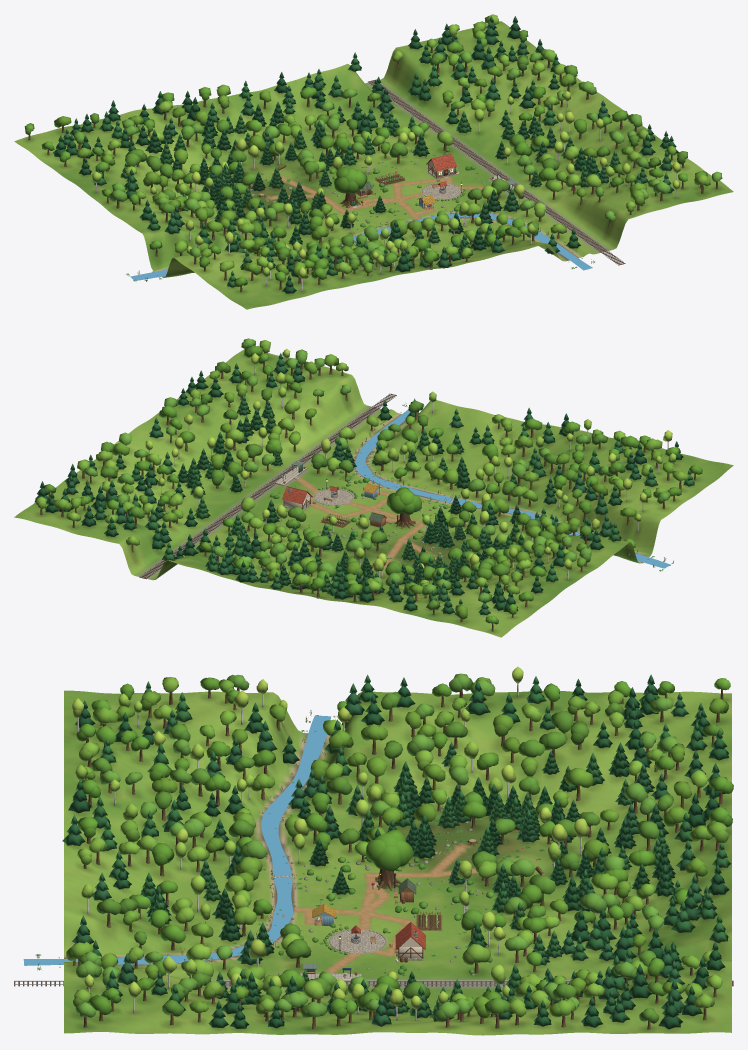
Rendered from village.glb.
3 views of the same model, one above another, from view 1: azimuth 30°, elevation 25°; view 2: azimuth 150°, elevation 25°; view 3: azimuth 270°, elevation 25° (orthographic). The views are drawn at different scales.
Visible parts, largest first — view 1: Foliage, Ground, Trunks, Halt, Water, Bakery, Square; view 2: Foliage, Ground, Trunks, Halt, Water, Square, Bakery; view 3: Foliage, Ground, Trunks, Water, Halt, Square, Bakery, Decor, Stream.
Part boxes in pixels (box(x1,y1,x2,y2)): Foliage: box(24, 14, 722, 293); Ground: box(14, 21, 733, 309); Trunks: box(28, 36, 718, 293); Halt: box(368, 80, 625, 265); Water: box(130, 213, 592, 280); Bakery: box(426, 152, 459, 181); Square: box(422, 181, 462, 199); Foliage: box(34, 338, 702, 624); Ground: box(14, 349, 733, 637); Trunks: box(40, 352, 696, 631); Halt: box(139, 393, 396, 579); Water: box(355, 405, 670, 568); Square: box(313, 479, 355, 505); Bakery: box(281, 486, 315, 510); Foliage: box(62, 666, 733, 1029); Ground: box(64, 690, 731, 1035); Trunks: box(73, 683, 723, 1029); Water: box(23, 715, 331, 965); Halt: box(14, 963, 733, 986); Square: box(325, 925, 386, 953); Bakery: box(389, 922, 425, 962); Decor: box(277, 803, 552, 976); Stream: box(35, 710, 337, 970).
Size of the model in its own units: 171 by 17.56 by 144.
